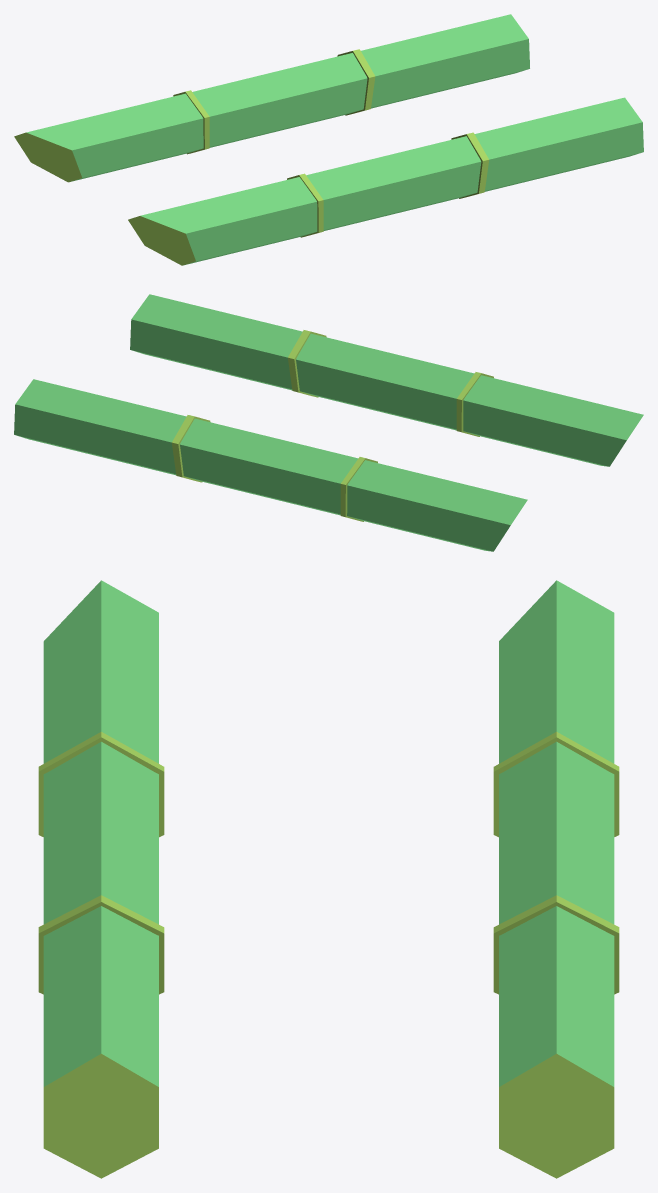
The model's file is BambooPlatform1.fbx.
3 views of the same model, one above another, from view 1: azimuth 30°, elevation 25°; view 2: azimuth 150°, elevation 25°; view 3: azimuth 270°, elevation 25° (orthographic). The views are drawn at different scales.
Visible parts, largest first — view 1: PlatformBamboo4, PlatformBamboo1; view 2: PlatformBamboo1, PlatformBamboo4; view 3: PlatformBamboo4, PlatformBamboo1.
Boxes of the visible parts, x1,y1,x2,y2 form: PlatformBamboo4: [14, 14, 529, 182]; PlatformBamboo1: [128, 97, 643, 265]; PlatformBamboo1: [130, 294, 643, 466]; PlatformBamboo4: [14, 379, 527, 551]; PlatformBamboo4: [493, 580, 619, 1178]; PlatformBamboo1: [38, 580, 164, 1178].
Bounding box in the file's own units: 6.8 × 0.8387 × 3.49.
